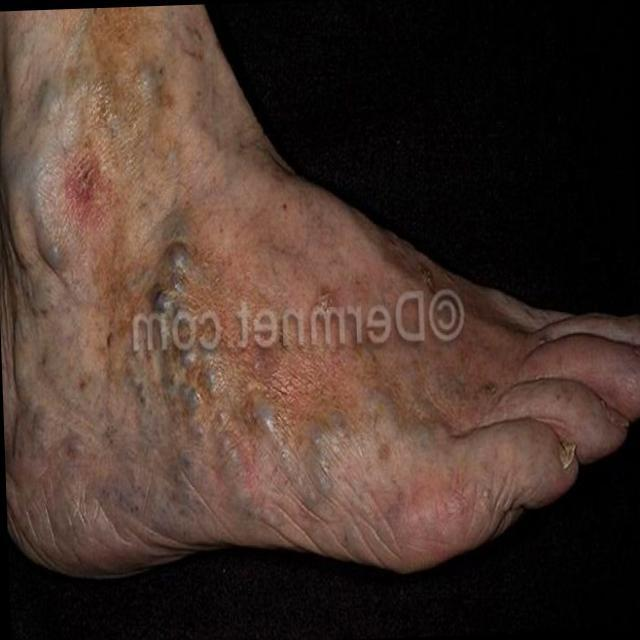Eczema: (0, 88, 439, 565)
